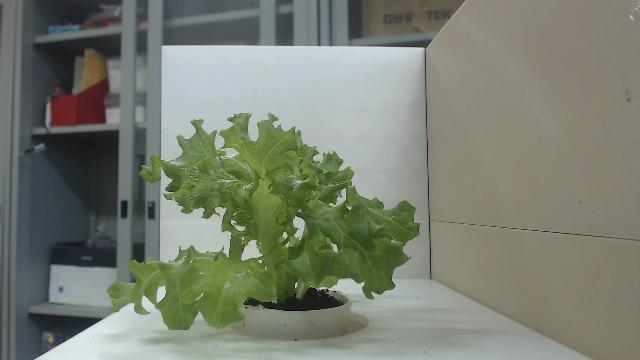Harvest Stage: (106, 110, 422, 332)
